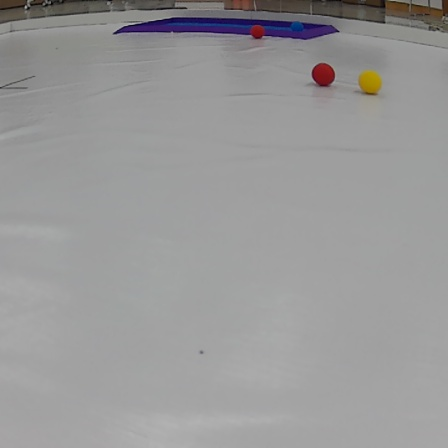blue: (292, 22, 304, 32)
blue_aim: (118, 19, 336, 37)
red: (314, 63, 334, 87), (251, 26, 264, 38)
yellow: (358, 71, 382, 94)
